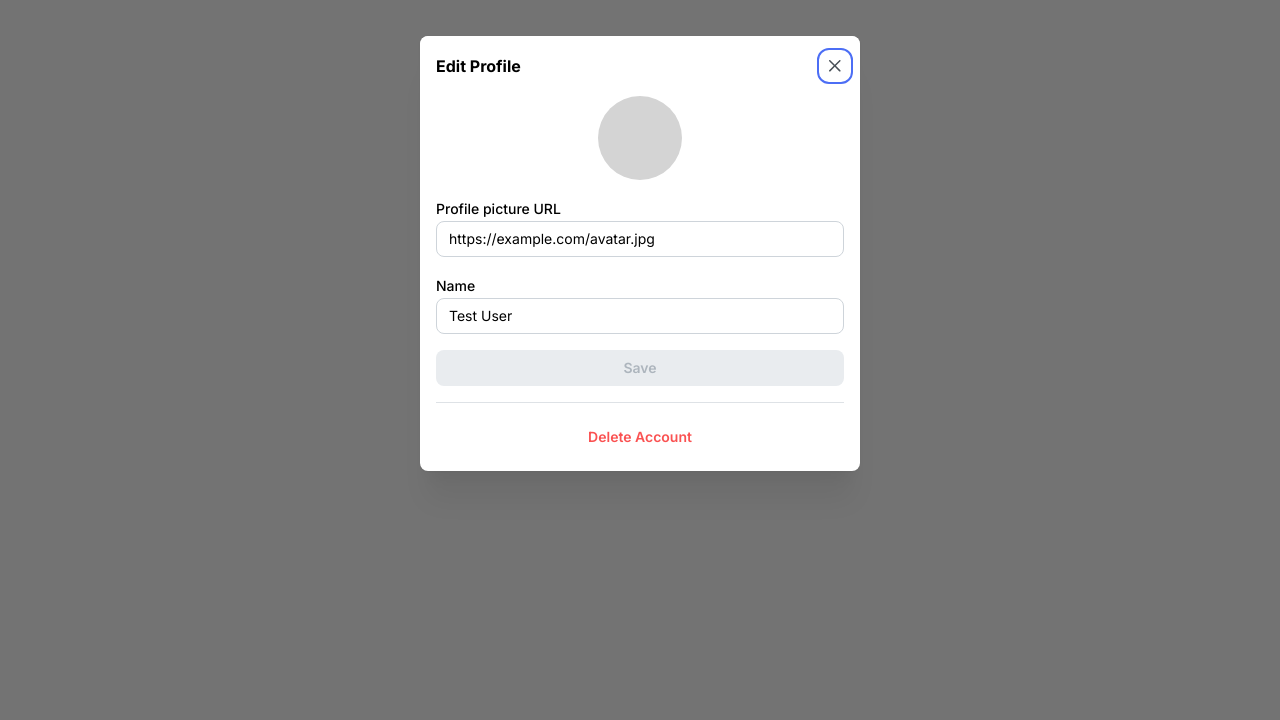
editProfileModal › save button enables when name is changed
Replace the text in the field labelled "Name" with "New Name" at (640, 316), box [436,298,844,334]
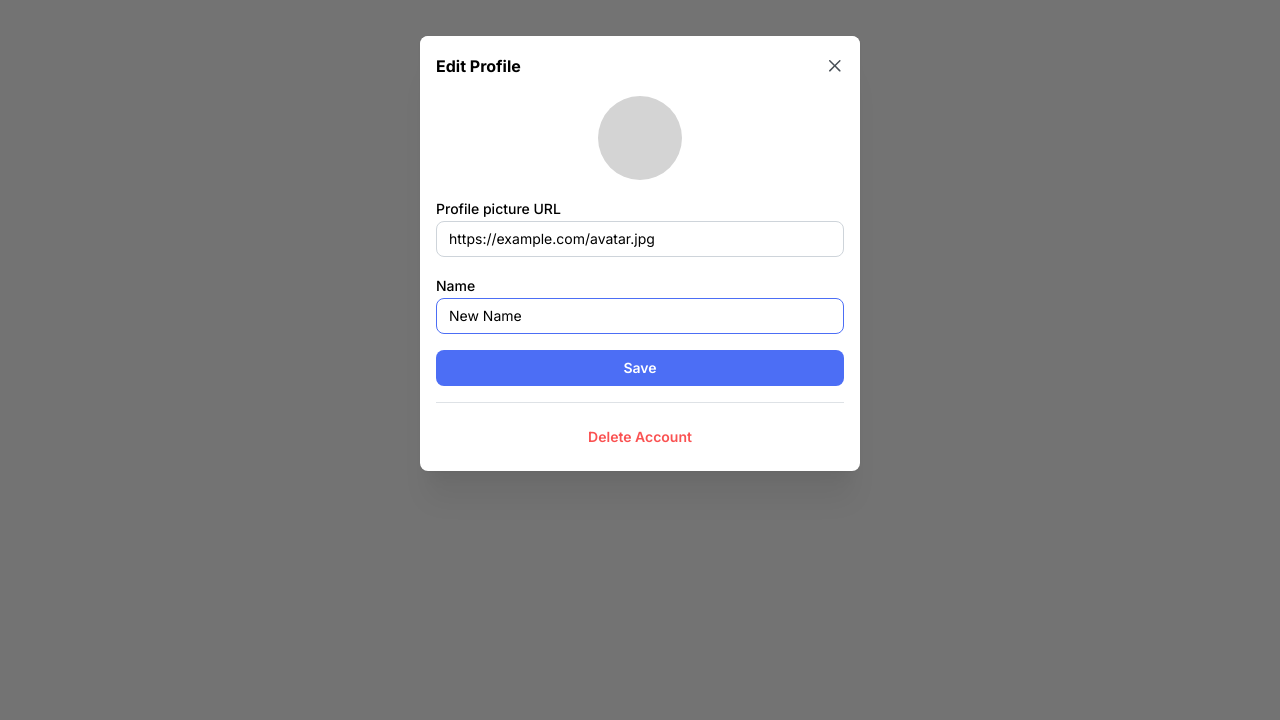
Expected: the button "Save" is enabled, [436,350,844,386]
